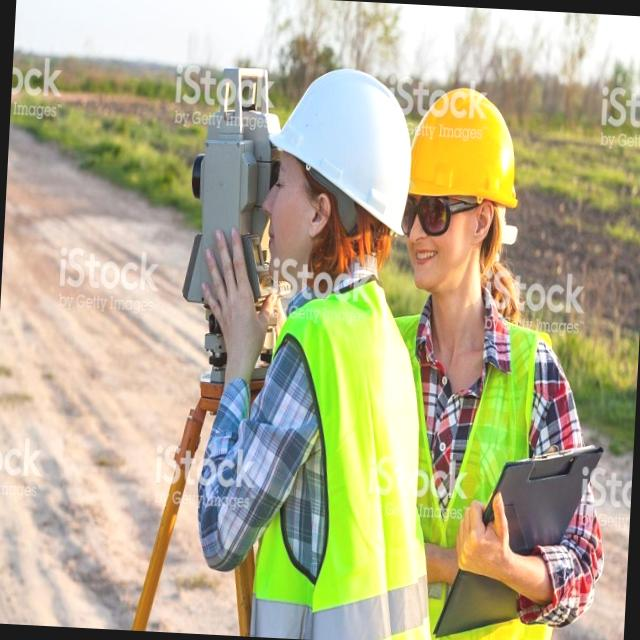helmet: (258, 59, 424, 247), (404, 78, 530, 224)
vest: (236, 294, 454, 640)
